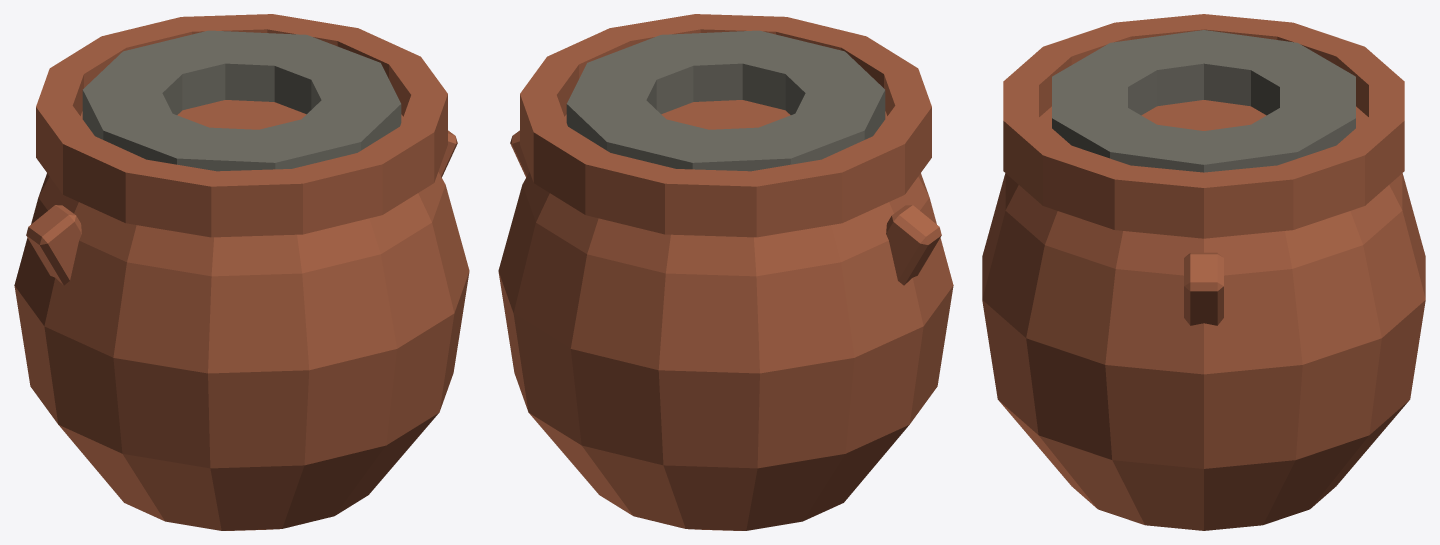
File: pot.fbx
The picture shows the model from 3 angles, left to right: view 1: azimuth 30°, elevation 25°; view 2: azimuth 150°, elevation 25°; view 3: azimuth 270°, elevation 25°; orthographic projection.
Parts seen in each view (by area): view 1: pot; view 2: pot; view 3: pot.
Part boxes in pixels (x1=…): pot: x1=14, y1=14, x2=469, y2=530; pot: x1=498, y1=14, x2=953, y2=530; pot: x1=982, y1=14, x2=1425, y2=530.
Bounding box in the file's own units: 60.29 × 55 × 55.57.
